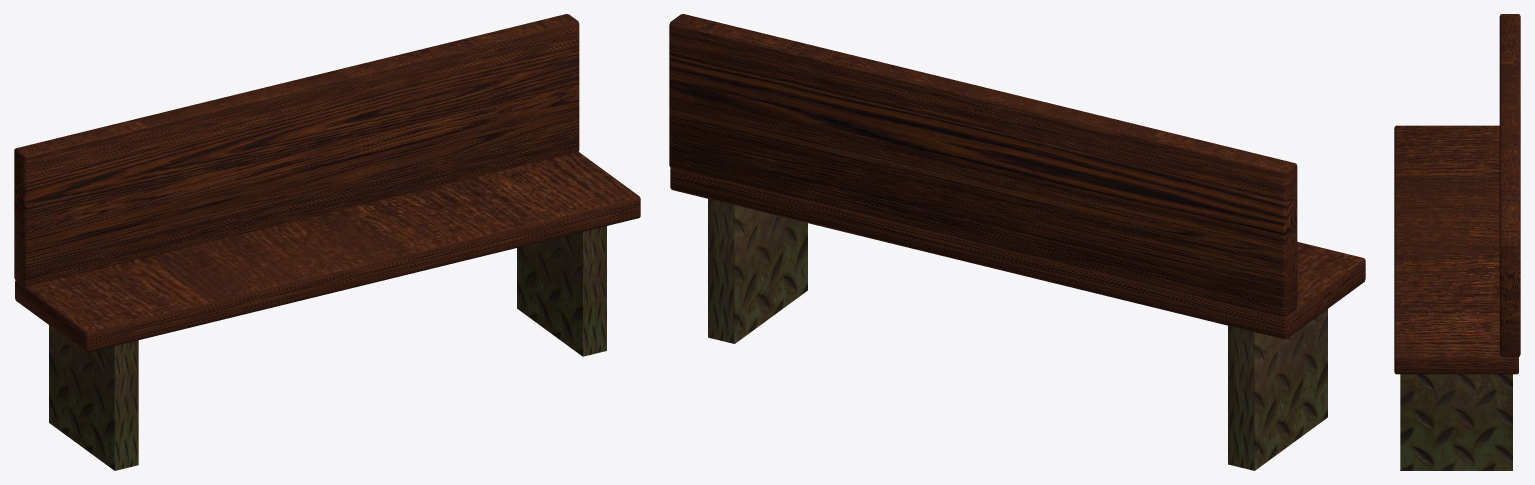
File: bench.glb
3 renders of one model, left to right at view 1: azimuth 30°, elevation 25°; view 2: azimuth 150°, elevation 25°; view 3: azimuth 270°, elevation 25°, orthographic. The views are drawn at different scales.
Parts seen in each view (by area): view 1: back, seat, legL, legR; view 2: back, seat, legL, legR; view 3: seat, legR, back.
Part boxes in pixels (x1=…): back: x1=14, y1=14, x2=579, y2=286; seat: x1=15, y1=152, x2=640, y2=352; legL: x1=49, y1=325, x2=138, y2=470; legR: x1=517, y1=226, x2=606, y2=356; back: x1=669, y1=14, x2=1297, y2=317; seat: x1=670, y1=168, x2=1365, y2=339; legL: x1=1228, y1=309, x2=1327, y2=470; legR: x1=708, y1=199, x2=807, y2=343; seat: x1=1394, y1=125, x2=1518, y2=374; legR: x1=1400, y1=374, x2=1512, y2=470; back: x1=1499, y1=14, x2=1520, y2=356.
Size of the model in its own units: 1.85 by 0.89 by 0.425.
2 materials, 2 textured.
